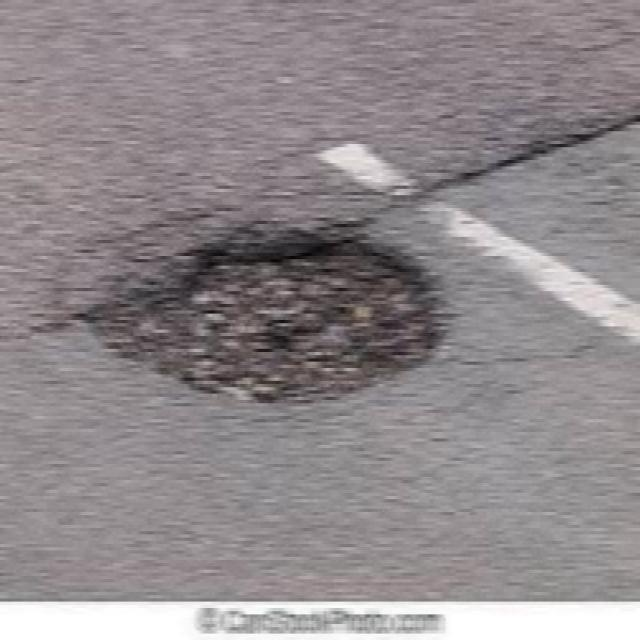Pothole: (67, 189, 454, 426)
